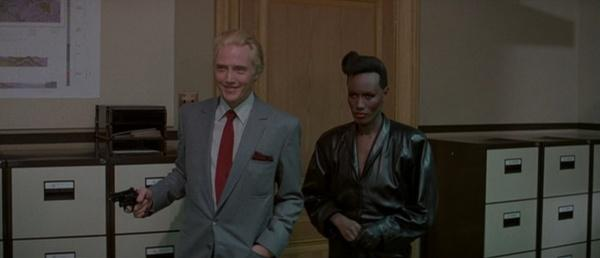Gun: (107, 187, 143, 213)
